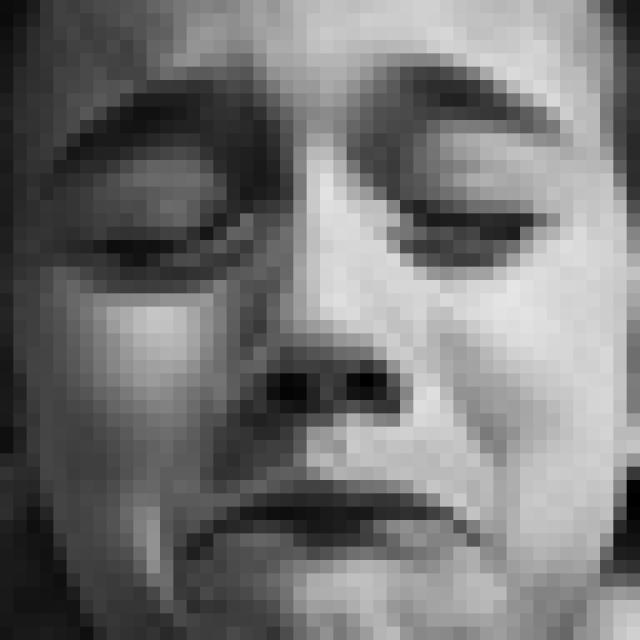sad: (42, 35, 585, 596)
